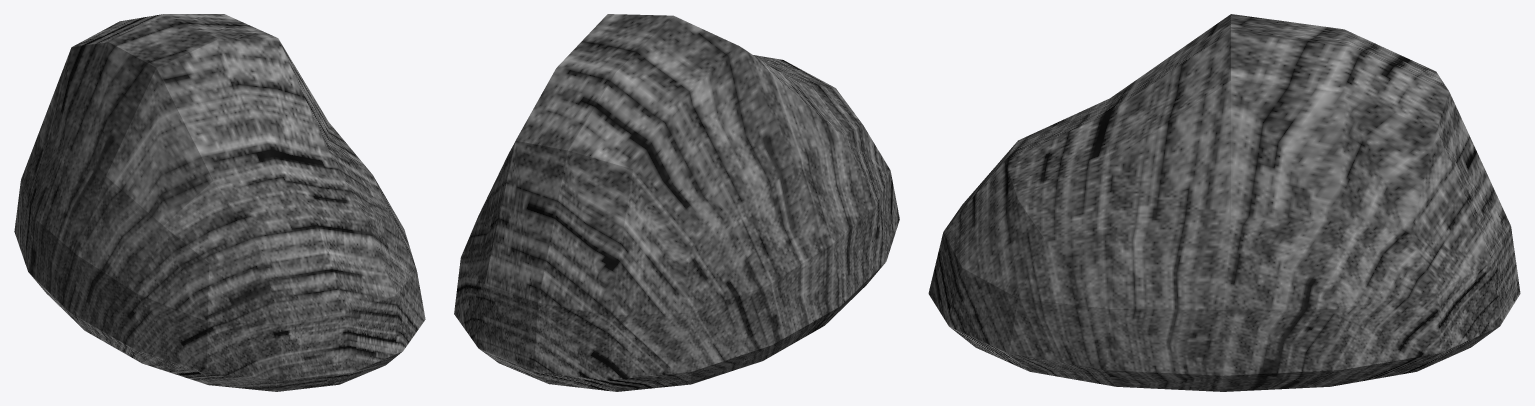
The model's file is kamien.obj.
3 views of the same model, side by side, from view 1: azimuth 30°, elevation 25°; view 2: azimuth 150°, elevation 25°; view 3: azimuth 270°, elevation 25° (orthographic). The views are drawn at different scales.
Visible parts, largest first — view 1: Cube; view 2: Cube; view 3: Cube.
Boxes of the visible parts, x1=… form: Cube: x1=14, y1=14, x2=425, y2=391; Cube: x1=454, y1=14, x2=899, y2=391; Cube: x1=928, y1=14, x2=1520, y2=391.
Size of the model in its own units: 1.09 by 0.8801 by 1.65.
1 material, 1 textured.
